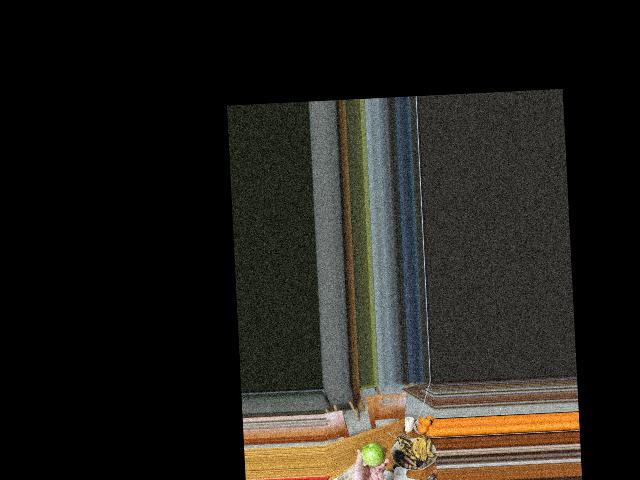apple: (361, 442, 383, 468)
